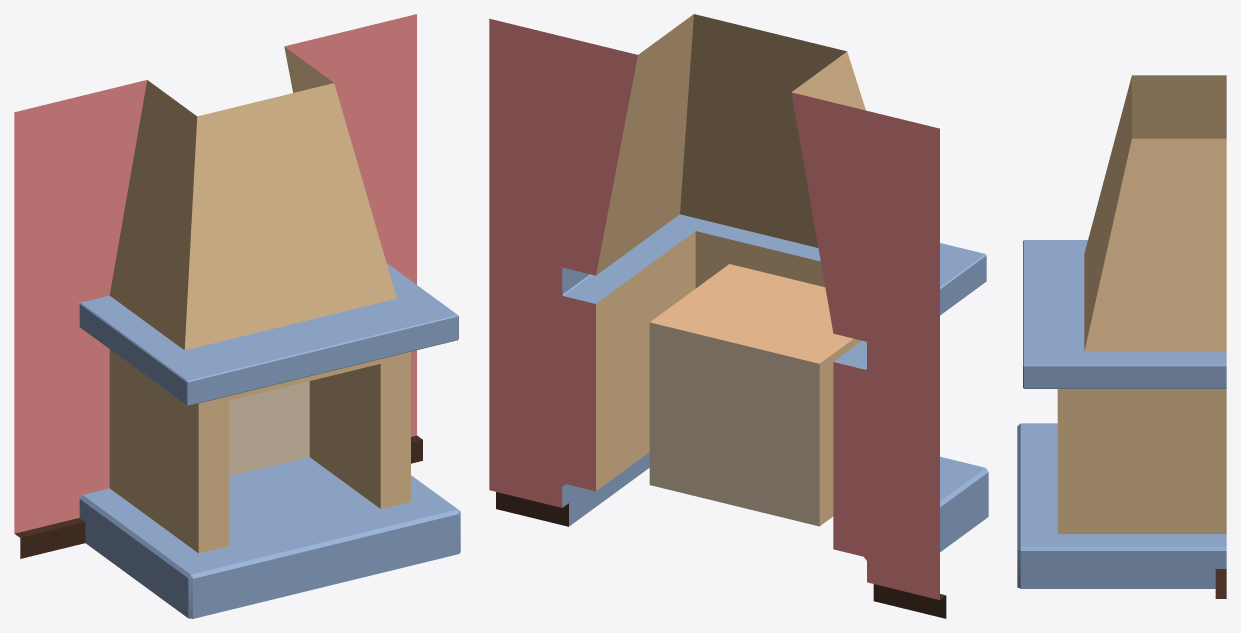
Rendered from SM_Cheminée.fbx.
3 views of the same model, side by side, from view 1: azimuth 30°, elevation 25°; view 2: azimuth 150°, elevation 25°; view 3: azimuth 270°, elevation 25° (orthographic). The views are drawn at different scales.
Parts seen in each view (by area): view 1: SM_Cheminée; view 2: SM_Cheminée; view 3: SM_Cheminée.
Part boxes in pixels (x1,y1,x2,y2): SM_Cheminée: [14, 14, 460, 618]; SM_Cheminée: [489, 14, 988, 618]; SM_Cheminée: [1017, 75, 1226, 598].
Size of the model in its own units: 2 by 2.1 by 0.95.
